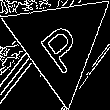P_NW: (32, 11, 87, 73)
